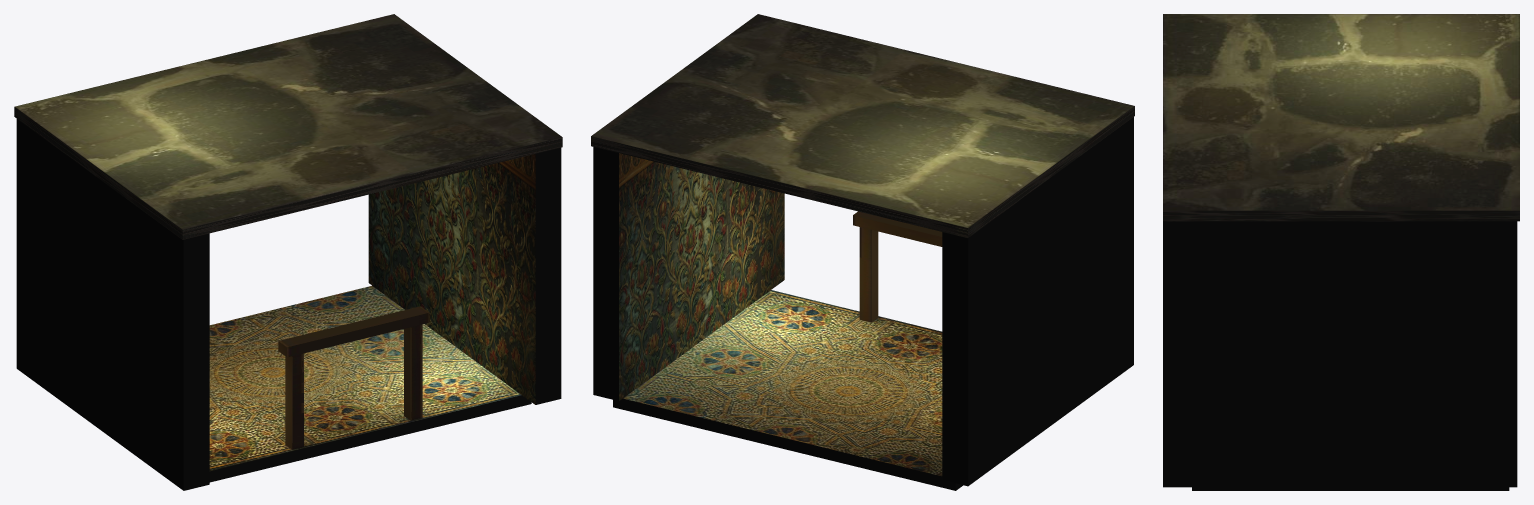
Rendered from lobby.glb.
3 renders of one model, left to right at view 1: azimuth 30°, elevation 25°; view 2: azimuth 150°, elevation 25°; view 3: azimuth 270°, elevation 25°, orthographic. The views are drawn at different scales.
Parts seen in each view (by area): view 1: lobby_arch_beam; view 2: lobby_arch_beam; view 3: lobby_arch_beam.
Boxes of the visible parts, box(x1,y1,x2,y2) form: lobby_arch_beam: box(14, 14, 562, 490); lobby_arch_beam: box(591, 14, 1134, 490); lobby_arch_beam: box(1163, 14, 1519, 490).
Size of the model in its own units: 17.6 by 12.07 by 13.5.
Materials: 5 (5 with a texture image).
